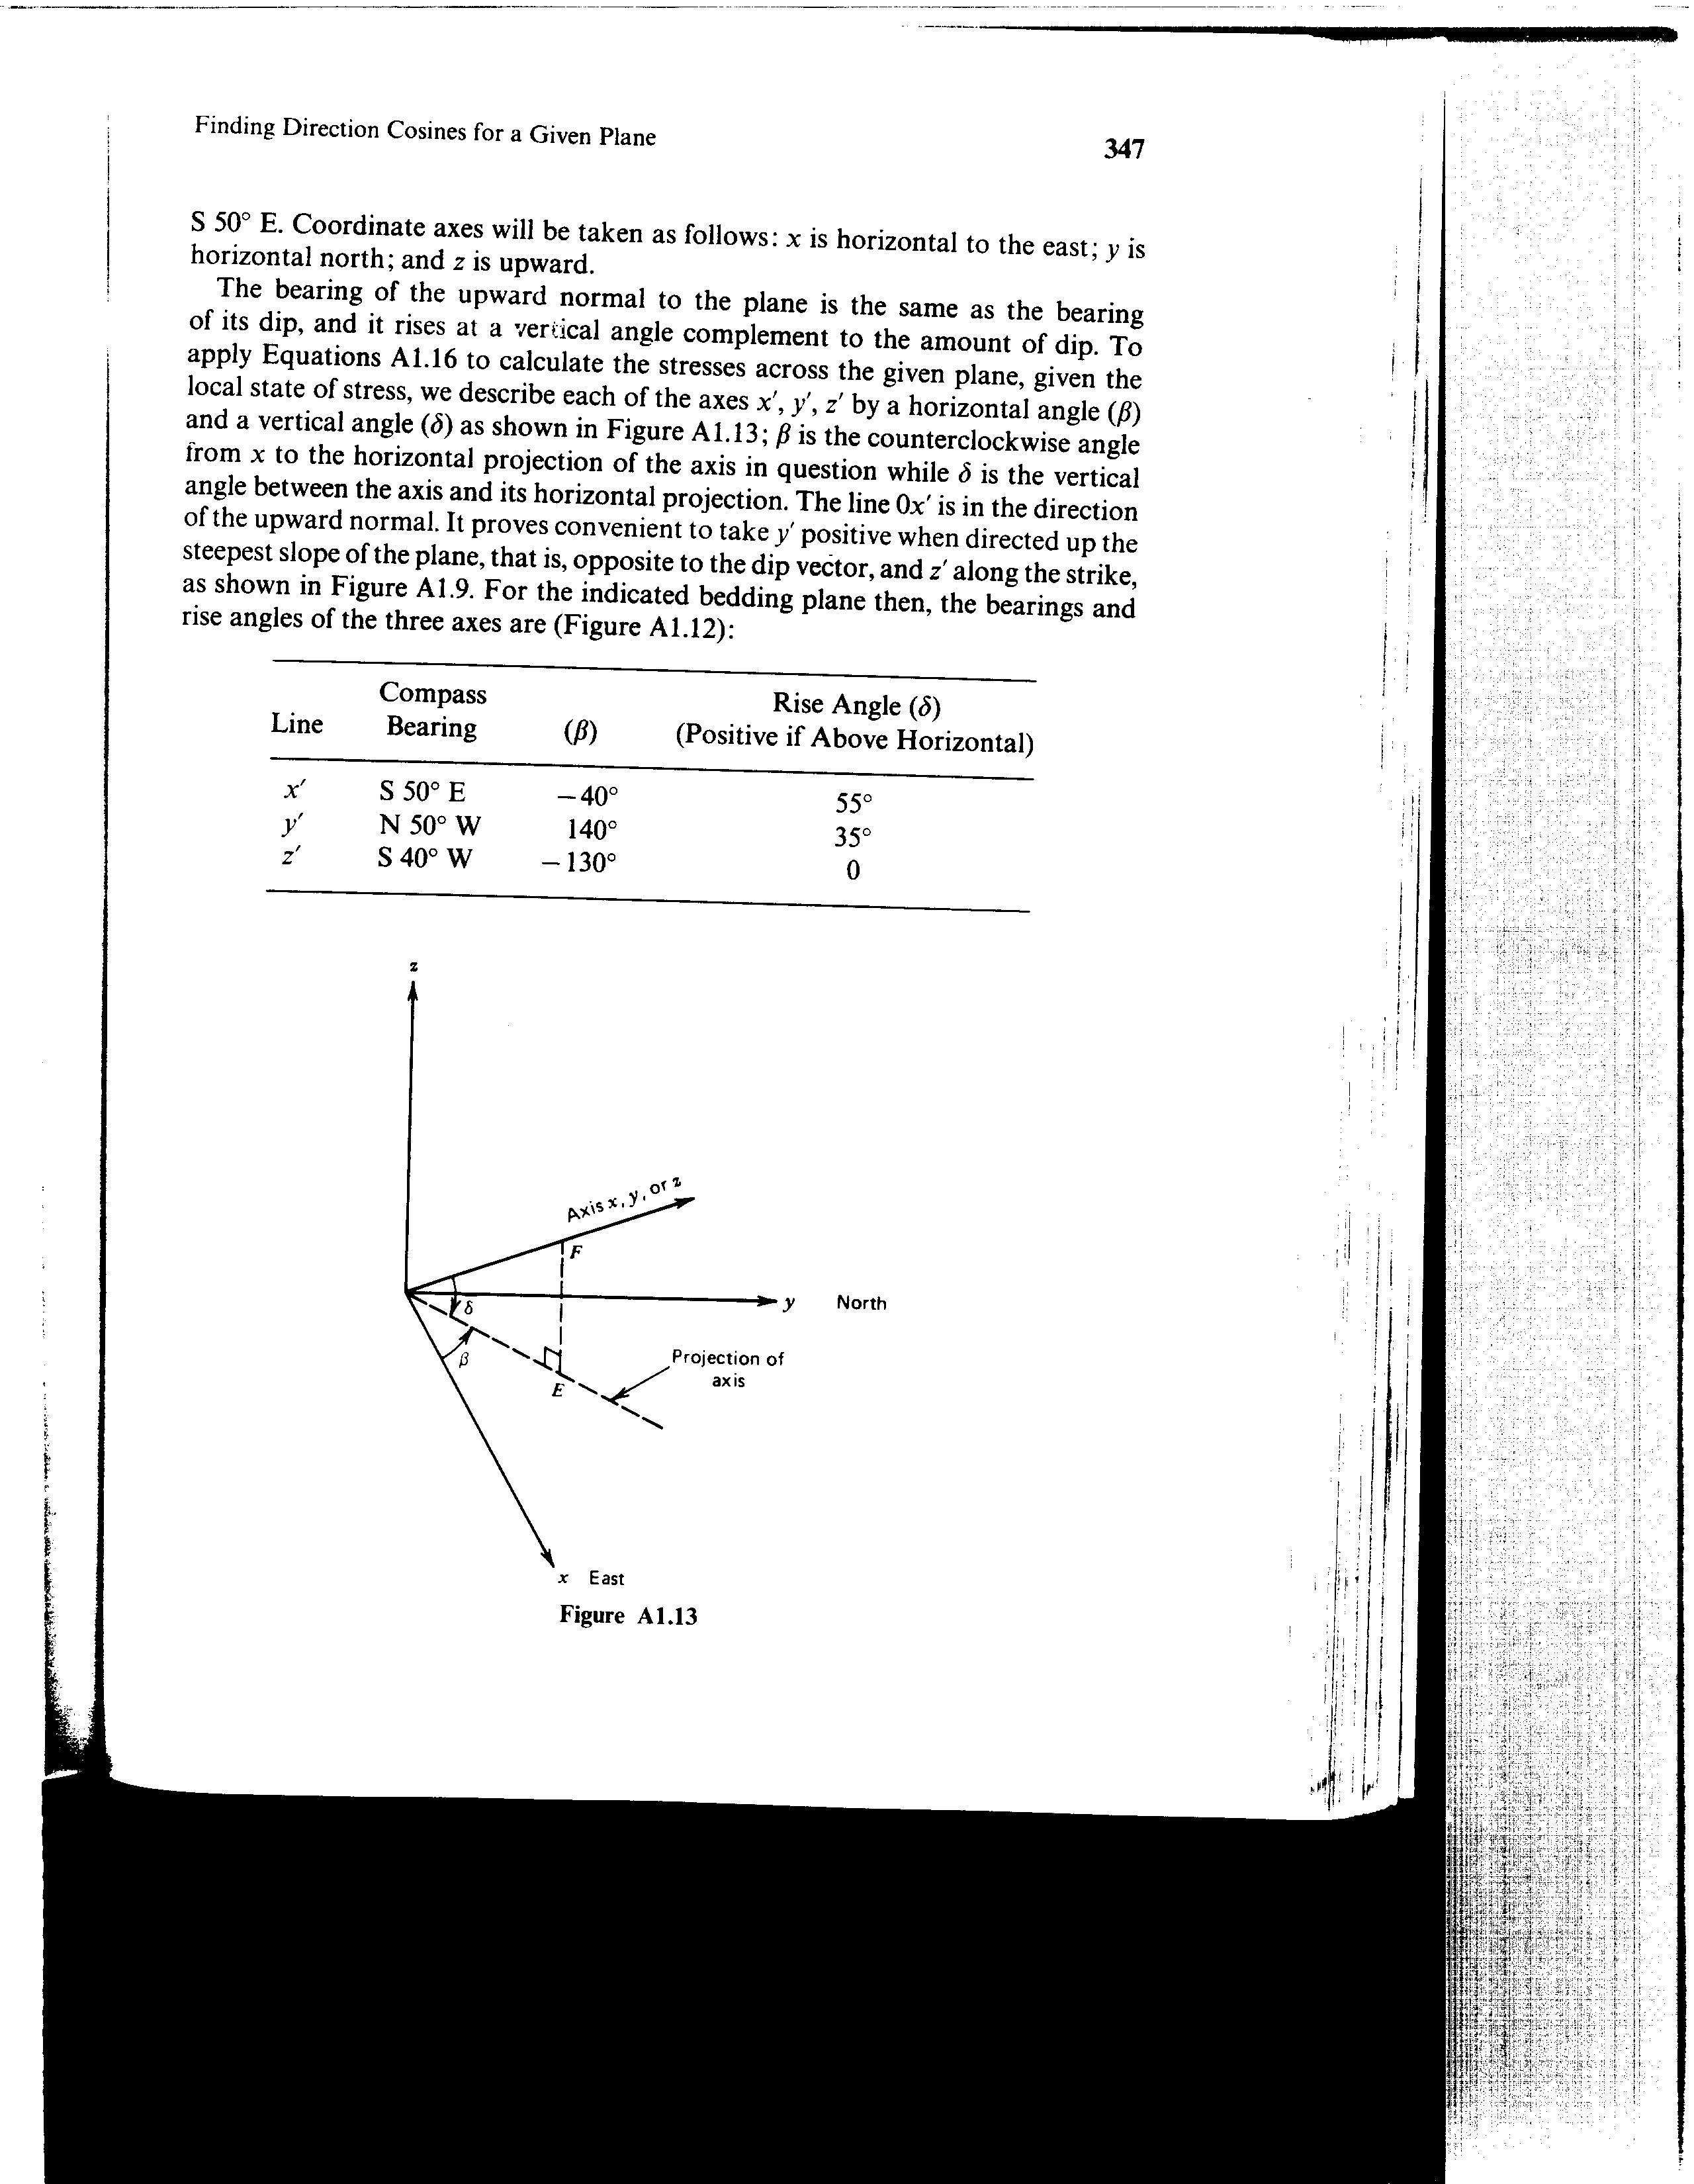borderless: (271, 647, 1070, 913)
